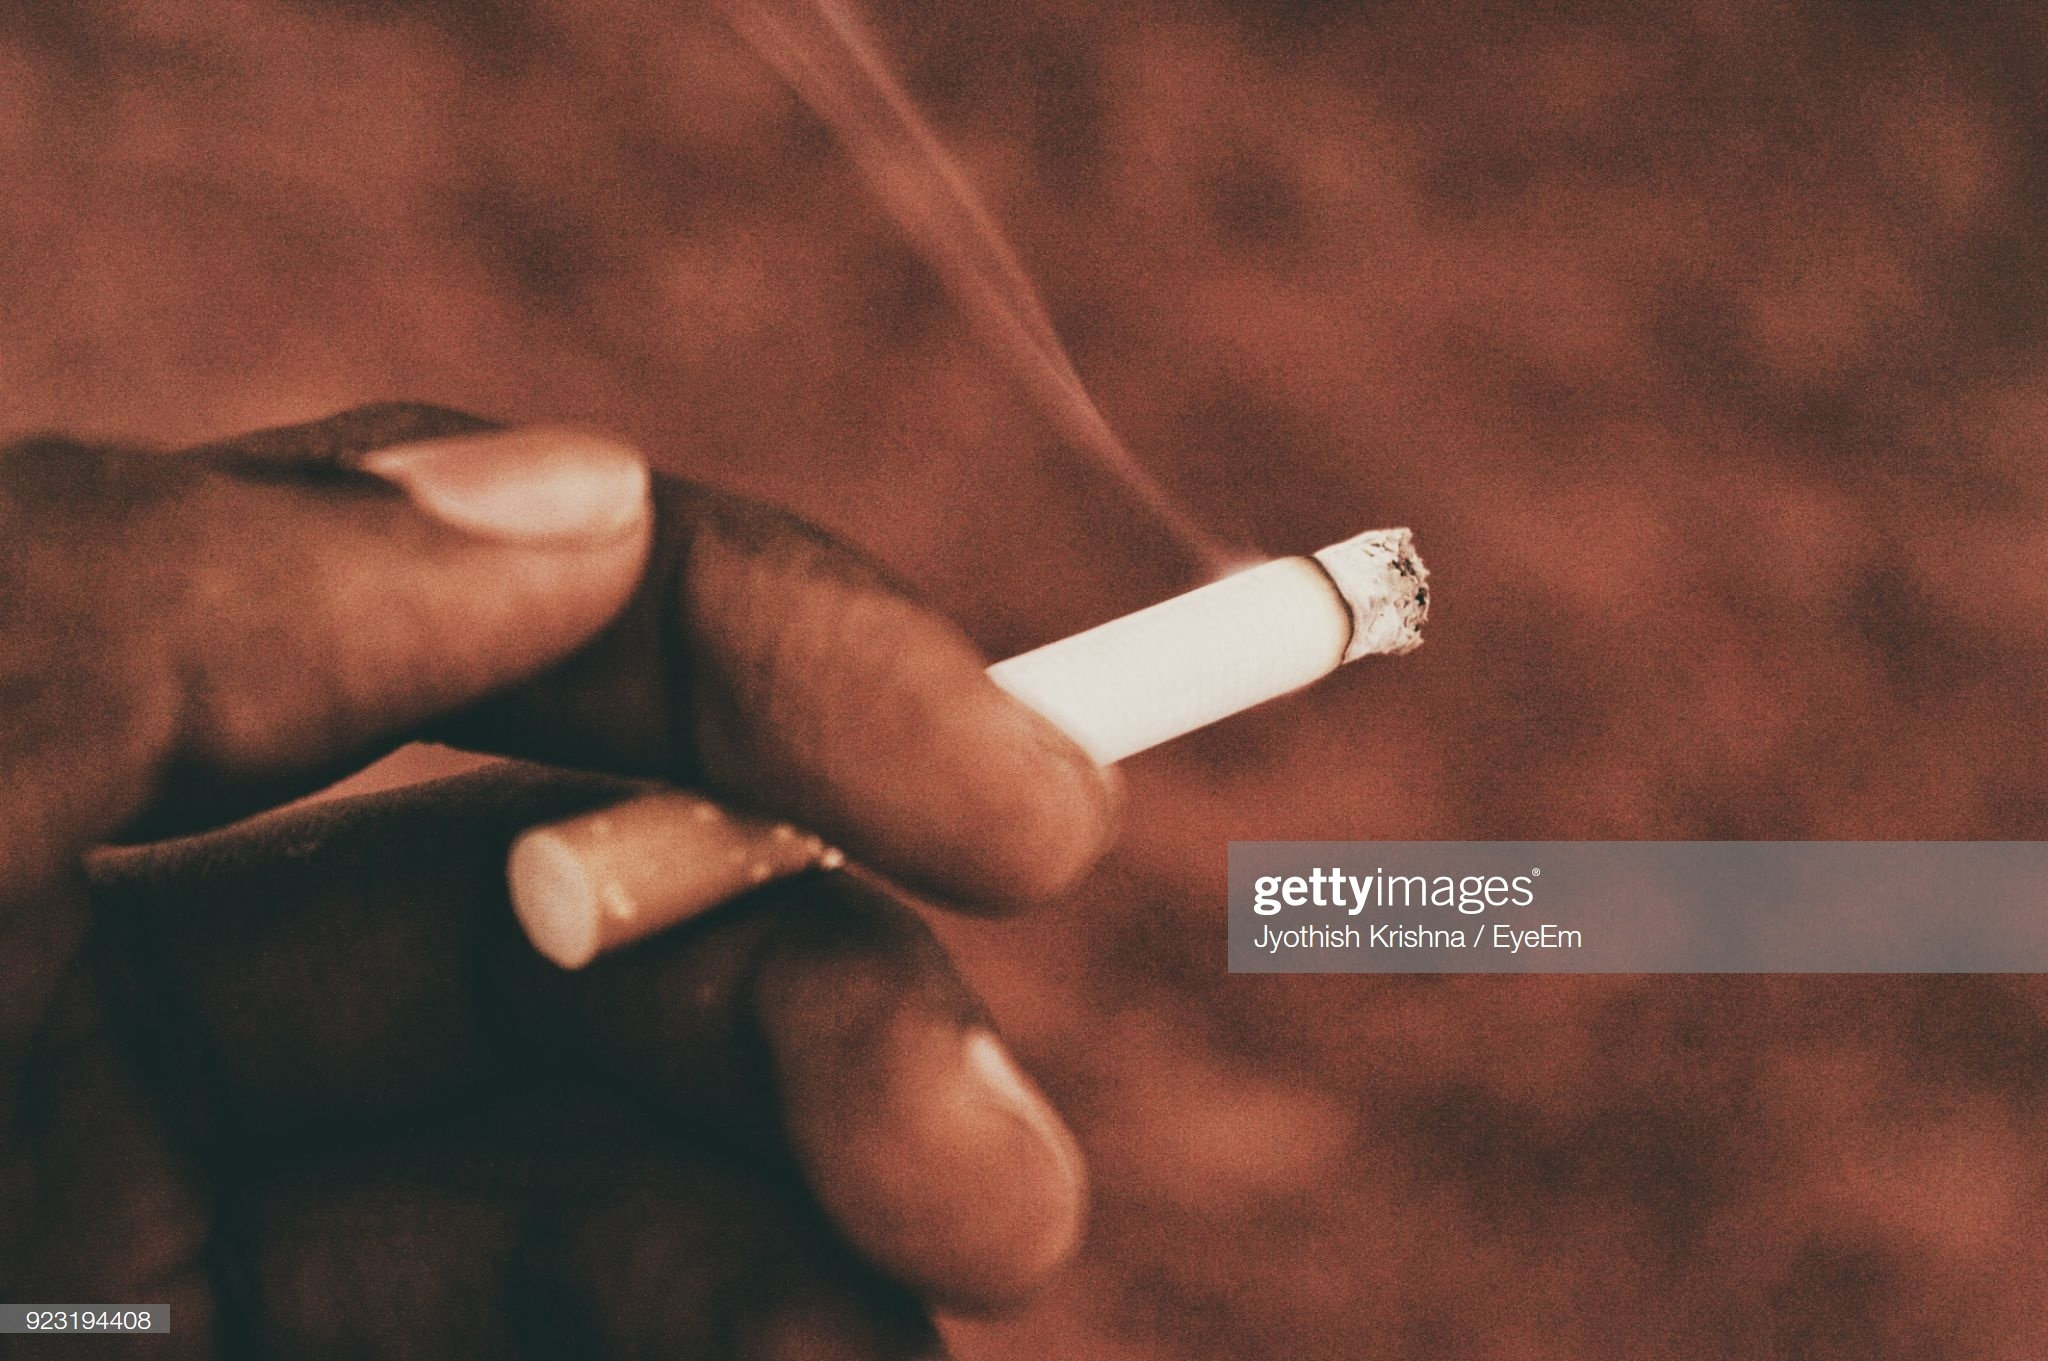sigaretta: (512, 553, 1419, 955)
